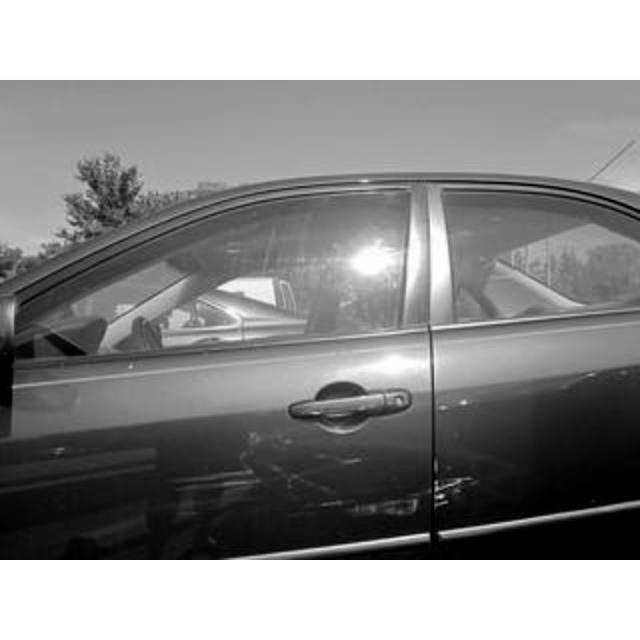doorouter-dent: (10, 220, 420, 558), (422, 188, 638, 558)
